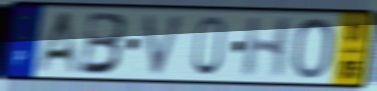0: (191, 14, 228, 78)
A: (32, 9, 83, 77)
B: (77, 10, 131, 77)
H: (239, 15, 295, 80)
O: (290, 16, 336, 82)
V: (141, 13, 190, 78)
